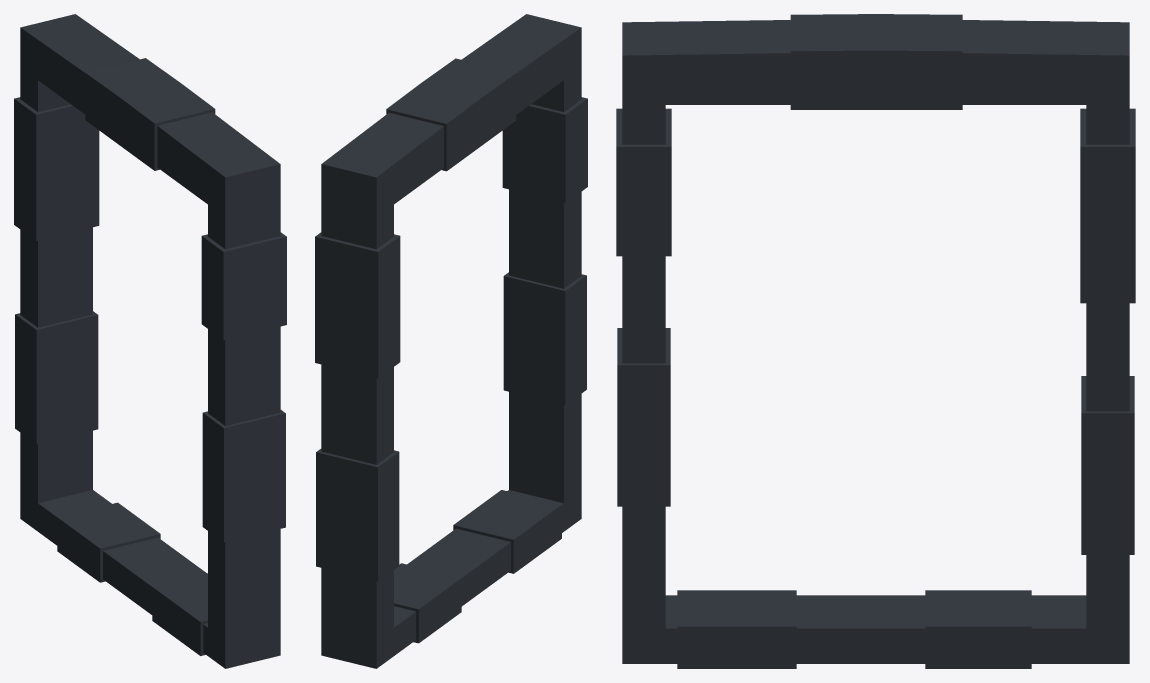
Rendered from DoorFrame_Box.fbx.
The picture shows the model from 3 angles, left to right: view 1: azimuth 30°, elevation 25°; view 2: azimuth 150°, elevation 25°; view 3: azimuth 270°, elevation 25°; orthographic projection. The views are drawn at different scales.
Parts seen in each view (by area): view 1: Door Box; view 2: Door Box; view 3: Door Box.
Part boxes in pixels (left/top/right/bottom): Door Box: left=14, top=14, right=286, bottom=668; Door Box: left=315, top=14, right=587, bottom=668; Door Box: left=616, top=14, right=1135, bottom=668.
Bounding box in the file's own units: 0.2281 × 1.72 × 1.31.
